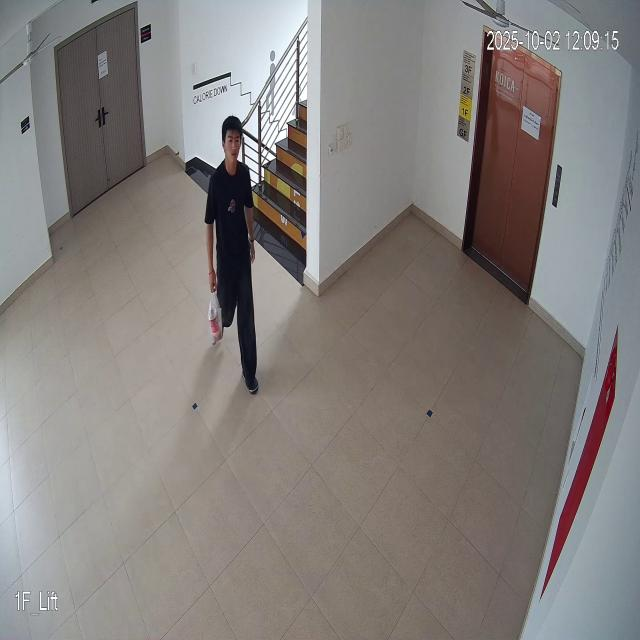face: (218, 111, 245, 180)
